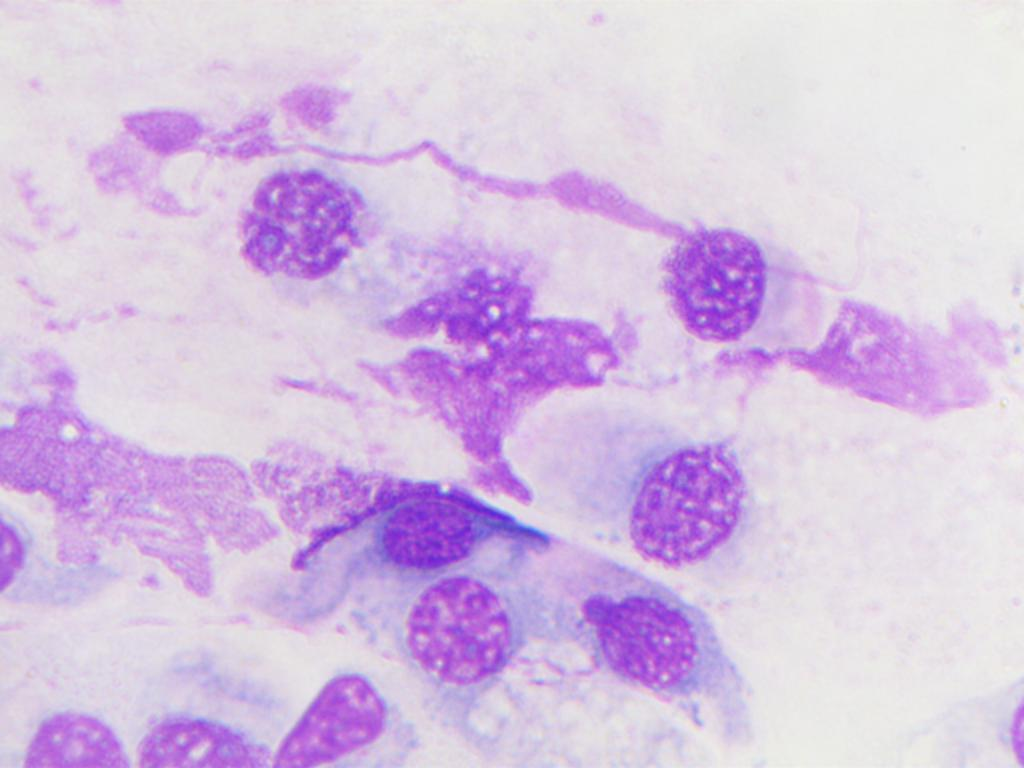artifact: (377, 261, 620, 507), (0, 389, 286, 598)
epithelial: (568, 562, 775, 767), (566, 409, 764, 575), (648, 217, 831, 351), (233, 168, 385, 284), (397, 569, 534, 688), (276, 669, 393, 768), (377, 495, 490, 576), (139, 706, 278, 768), (19, 706, 127, 768)
